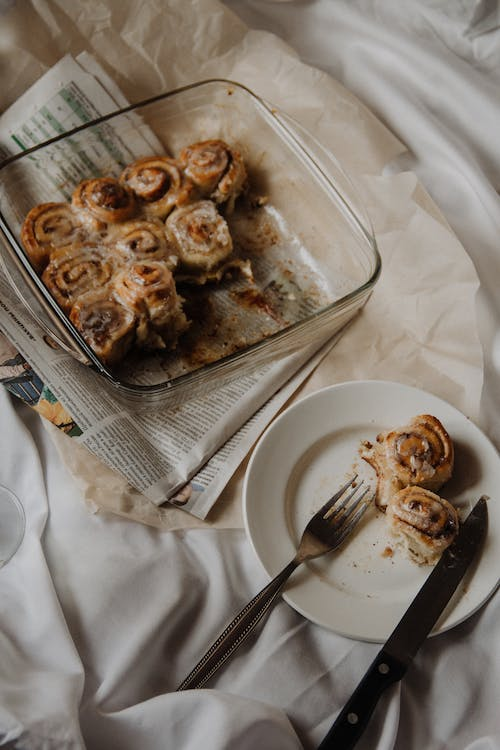knife: (313, 493, 491, 750)
